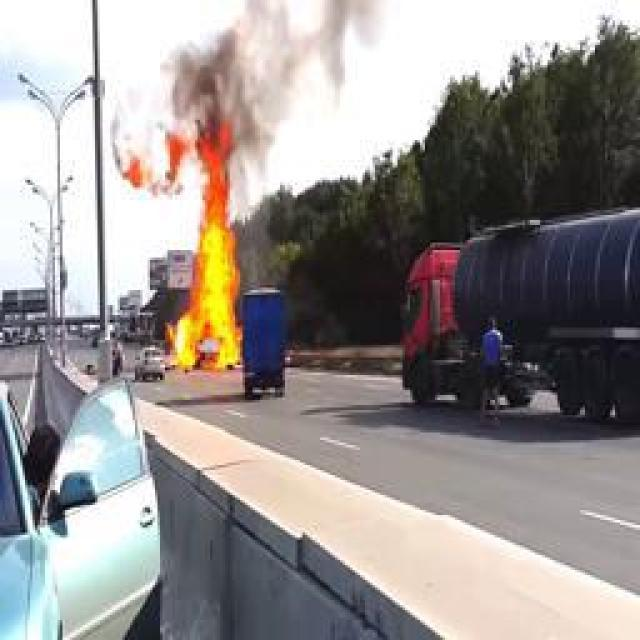Fire: (114, 124, 244, 368)
